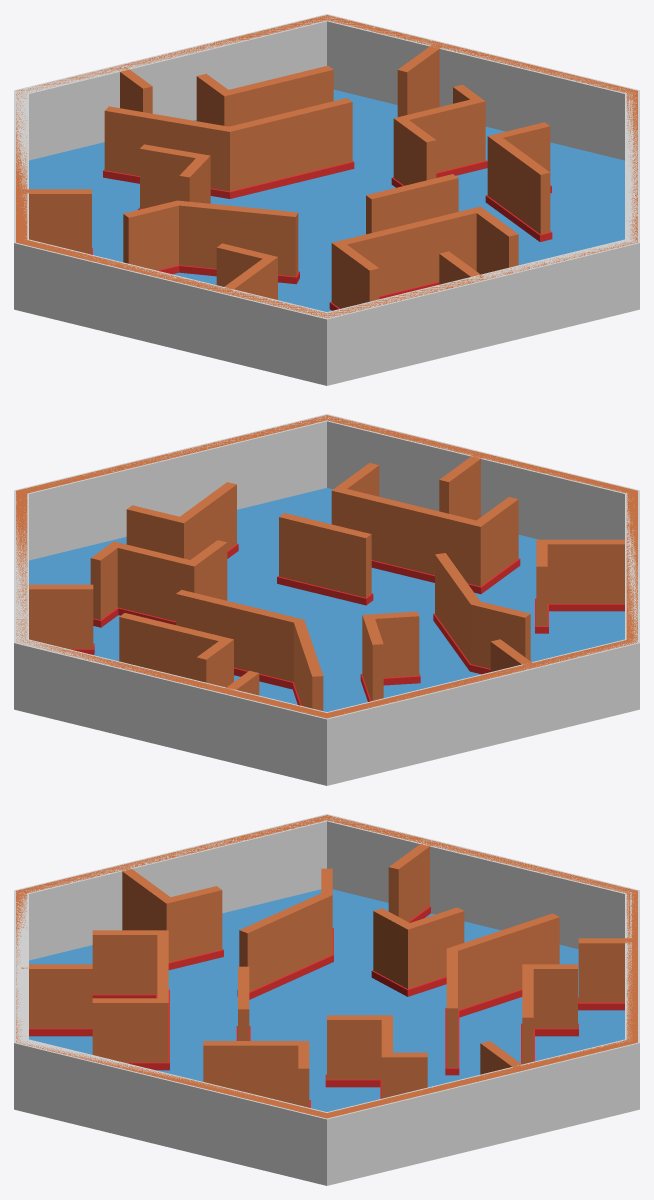
Rendered from Location4.fbx.
3 views of the same model, one above another, from view 1: azimuth 30°, elevation 25°; view 2: azimuth 150°, elevation 25°; view 3: azimuth 270°, elevation 25° (orthographic).
Parts seen in each view (by area): view 1: outer_wall.04, wall.04, floor.04; view 2: wall.04, outer_wall.04, floor.04; view 3: outer_wall.04, wall.04, floor.04.
Part boxes in pixels (bbox=[...]): outer_wall.04: bbox=[14, 14, 639, 385]; wall.04: bbox=[16, 15, 637, 318]; floor.04: bbox=[29, 89, 624, 311]; wall.04: bbox=[16, 415, 637, 718]; outer_wall.04: bbox=[14, 414, 639, 785]; floor.04: bbox=[29, 488, 624, 711]; outer_wall.04: bbox=[14, 814, 639, 1185]; wall.04: bbox=[16, 815, 637, 1118]; floor.04: bbox=[29, 889, 624, 1111].
Size of the model in its own units: 1798 by 183 by 1557.
